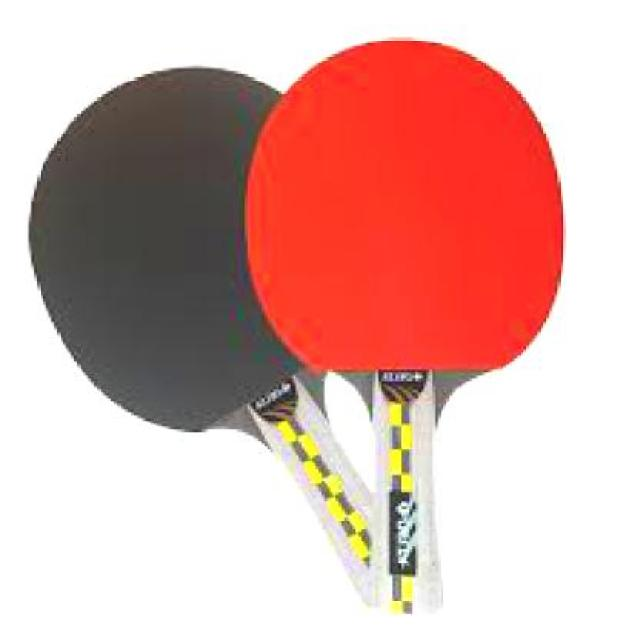table_tennis_racket: (242, 32, 568, 390), (28, 64, 314, 453)
